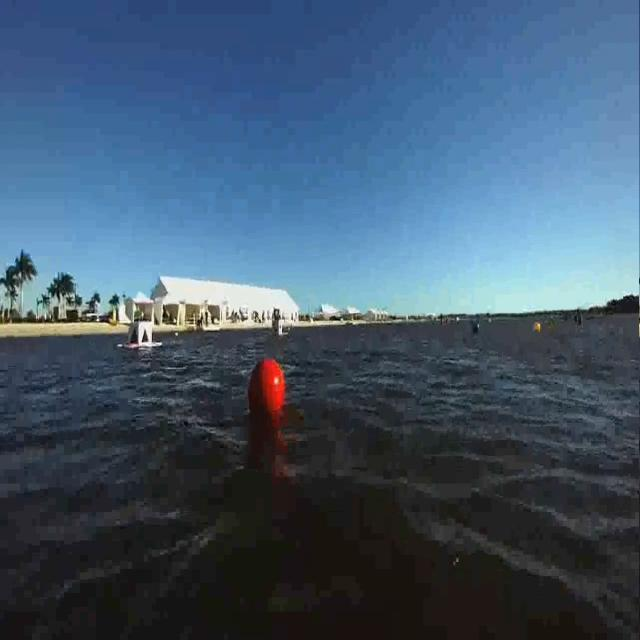red-buoy: (248, 357, 288, 428)
yellow-buoy: (534, 319, 542, 334)
